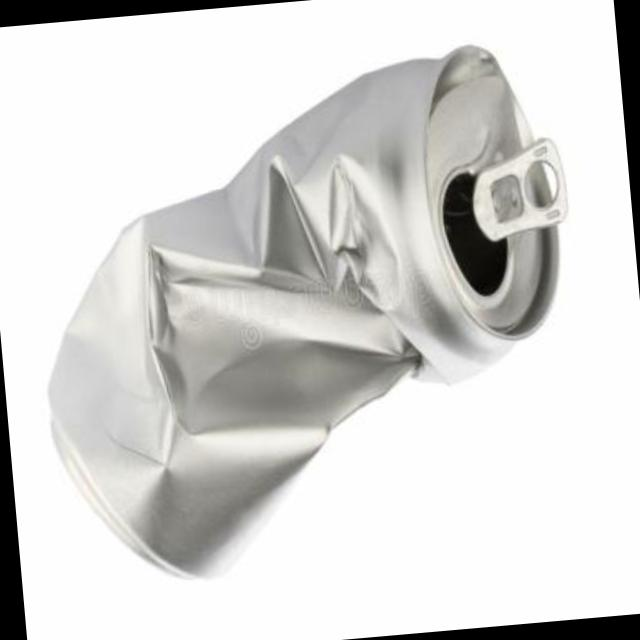metal: (52, 50, 566, 579)
